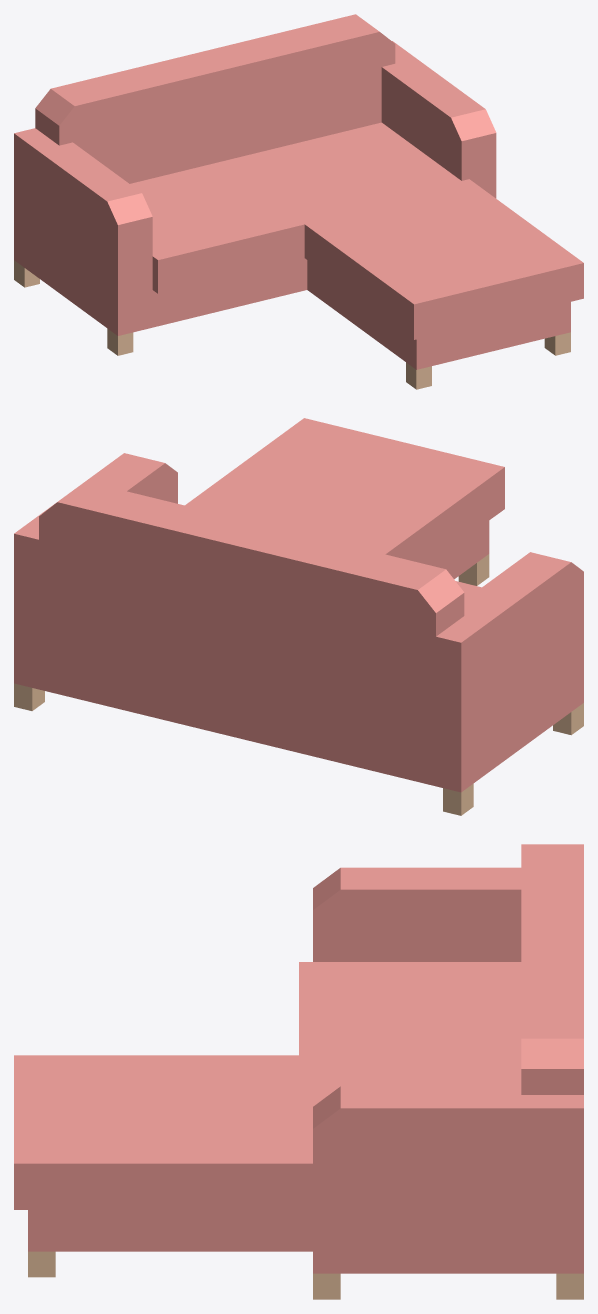
Rendered from loungeSofaLong-col.glb.
The picture shows the model from 3 angles, top to bottom: view 1: azimuth 30°, elevation 25°; view 2: azimuth 150°, elevation 25°; view 3: azimuth 270°, elevation 25°; orthographic projection. The views are drawn at different scales.
Parts seen in each view (by area): view 1: loungeSofaLong-col; view 2: loungeSofaLong-col; view 3: loungeSofaLong-col.
Boxes of the visible parts, box(x1,y1,x2,y2) form: loungeSofaLong-col: box(14, 14, 583, 389); loungeSofaLong-col: box(14, 418, 583, 815); loungeSofaLong-col: box(14, 844, 583, 1299).
Size of the model in its own units: 1 by 0.46 by 1.
